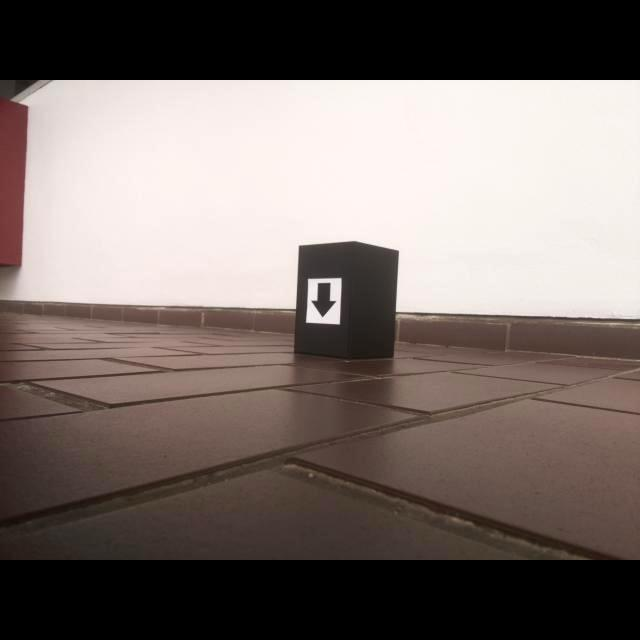DOWN: (310, 282, 337, 318)
